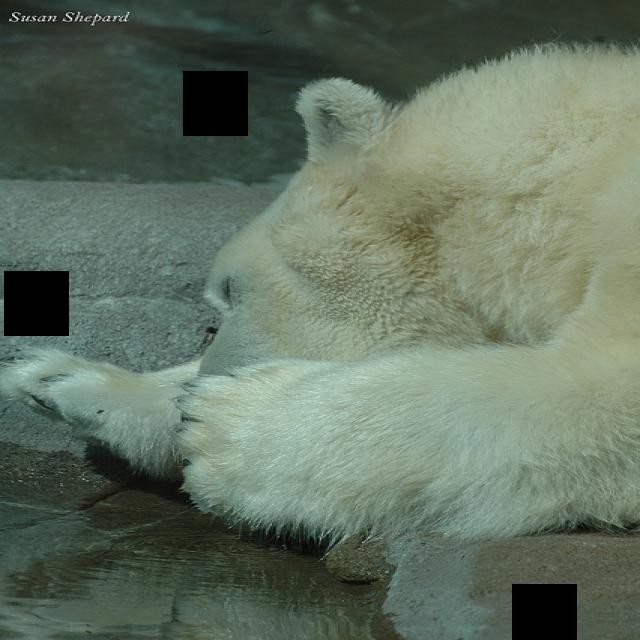Bear: (17, 50, 640, 562)
